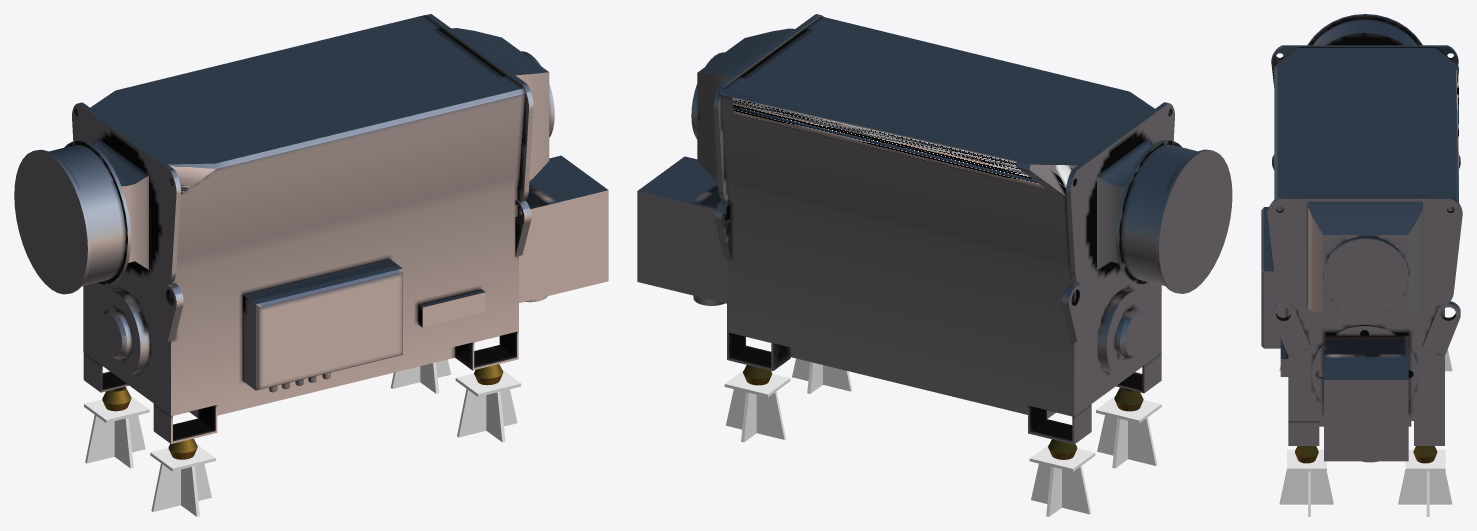
File: houzhuji.glb
The picture shows the model from 3 angles, left to right: view 1: azimuth 30°, elevation 25°; view 2: azimuth 150°, elevation 25°; view 3: azimuth 270°, elevation 25°; orthographic projection. The views are drawn at different scales.
Visible parts, largest first — view 1: 底, 后主机; view 2: 底, 后主机; view 3: 底, 后主机.
Boxes of the visible parts, x1,y1,x2,y2 form: 底: (14,14,608,443); 后主机: (84,359,521,516); 底: (637,14,1232,444); 后主机: (724,358,1161,516); 底: (1261,14,1462,462); 后主机: (1279,316,1452,516).
Size of the model in its own units: 13.28 by 8.37 by 4.84.
Materials: 4 (2 with a texture image).
